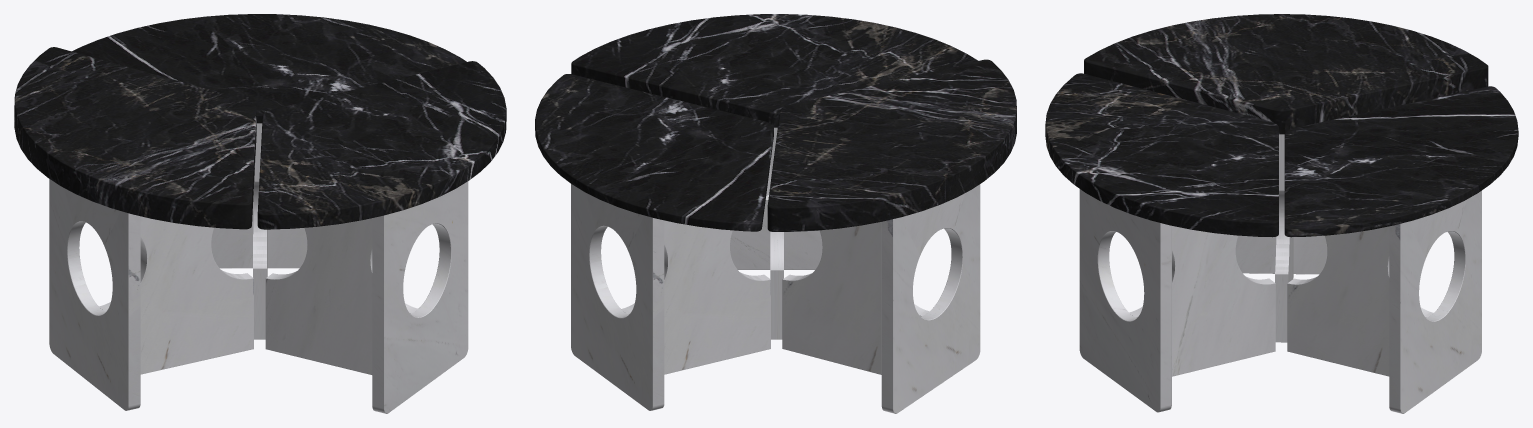
The model's file is roundtab2.glb.
3 renders of one model, left to right at view 1: azimuth 30°, elevation 25°; view 2: azimuth 150°, elevation 25°; view 3: azimuth 270°, elevation 25°, orthographic. The views are drawn at different scales.
Parts seen in each view (by area): view 1: Cylinder, Cube.001, Cube.005, Cube.004, Cube, Cube.008, Cube.007; view 2: Cylinder, Cube.005, Cube.008, Cube.007, Cube.004, Cube.001, Cube; view 3: Cylinder, Cube.008, Cube.001, Cube, Cube.007, Cube.005, Cube.004.
Part boxes in pixels (x1,y1,x2,y2): Cylinder: [14, 14, 506, 229]; Cube.001: [372, 181, 468, 413]; Cube.005: [49, 179, 140, 410]; Cube.004: [99, 189, 253, 374]; Cube: [265, 218, 417, 374]; Cube.008: [211, 202, 307, 268]; Cube.007: [253, 123, 267, 339]; Cylinder: [535, 14, 1016, 231]; Cube.005: [881, 184, 980, 413]; Cube.008: [571, 184, 664, 410]; Cube.007: [621, 160, 770, 374]; Cube.004: [782, 222, 929, 374]; Cube.001: [730, 195, 822, 269]; Cube: [770, 127, 783, 339]; Cylinder: [1045, 14, 1518, 237]; Cube.008: [1389, 190, 1481, 413]; Cube.001: [1079, 189, 1171, 412]; Cube: [1129, 226, 1275, 376]; Cube.007: [1287, 226, 1433, 376]; Cube.005: [1235, 235, 1327, 274]; Cube.004: [1275, 134, 1293, 342].
Bounding box in the file's own units: 2.02 × 1.1 × 2.03.
Materials: 2 (2 with a texture image).
